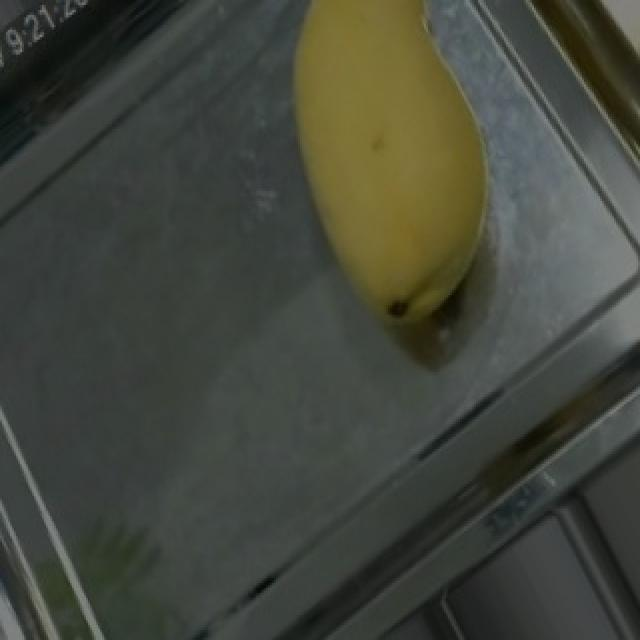fruit: (222, 0, 586, 352)
